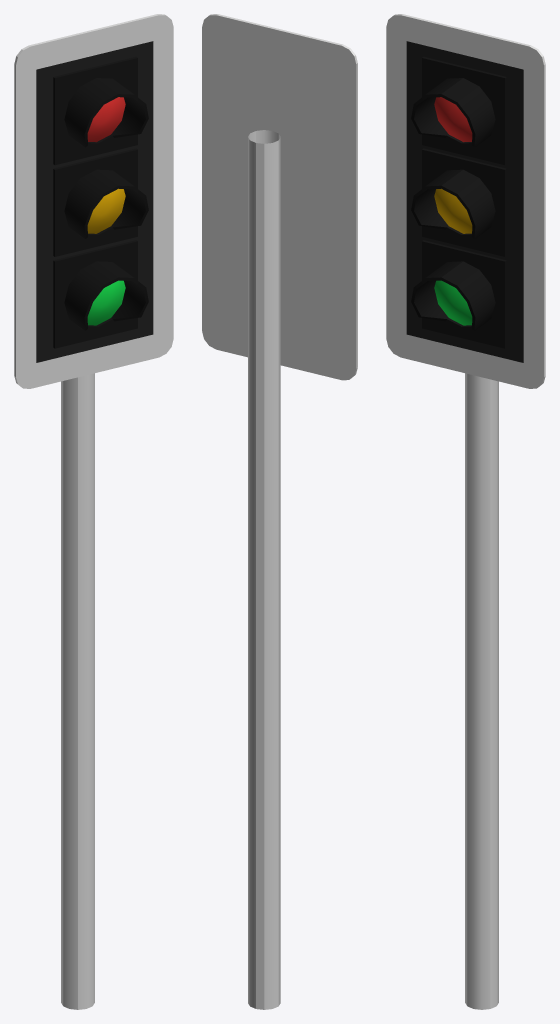
Rendered from TrafficLight.fbx.
3 renders of one model, left to right at view 1: azimuth 30°, elevation 25°; view 2: azimuth 150°, elevation 25°; view 3: azimuth 330°, elevation 25°, orthographic. The views are drawn at different scales.
Visible parts, largest first — view 1: Board.001; view 2: Board.001; view 3: Board.001.
Boxes of the visible parts, box(x1,y1,x2,y2) form: Board.001: box(14, 14, 173, 1009); Board.001: box(202, 14, 357, 1009); Board.001: box(386, 14, 545, 1009).
Bounding box in the file's own units: 54 × 322 × 29.
